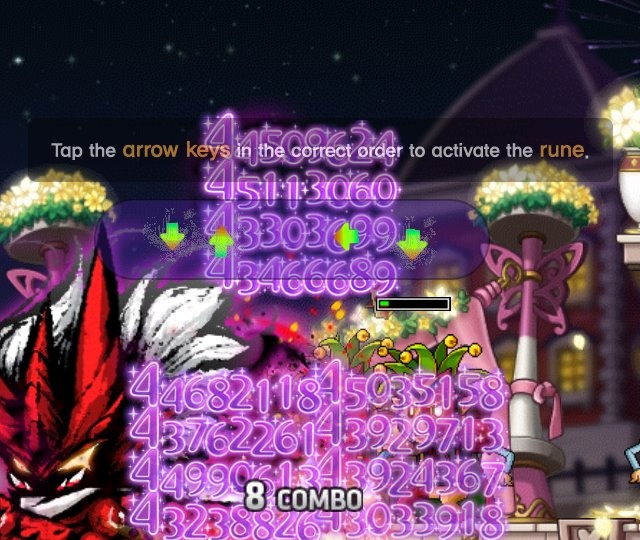down: (390, 222, 438, 269), (151, 219, 190, 256)
left: (324, 217, 368, 256)
up: (202, 221, 240, 260)
